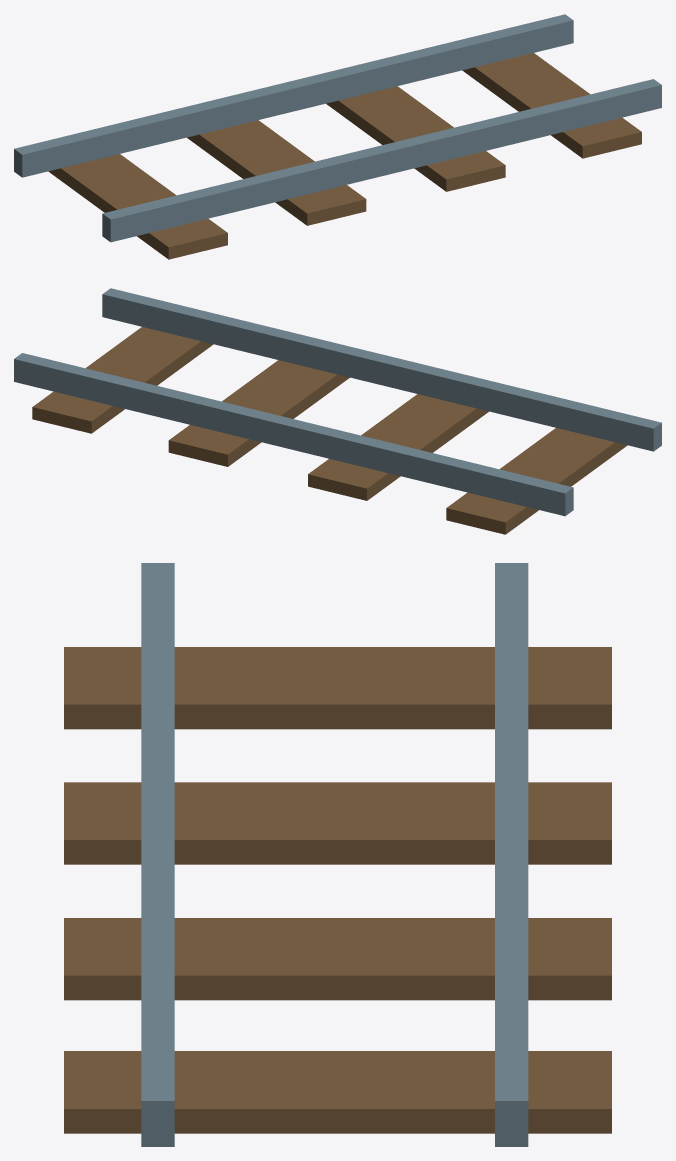
Rendered from Rail-A01.fbx.
The picture shows the model from 3 angles, top to bottom: view 1: azimuth 30°, elevation 25°; view 2: azimuth 150°, elevation 25°; view 3: azimuth 270°, elevation 25°; orthographic projection. The views are drawn at different scales.
Visible parts, largest first — view 1: Rail-A01; view 2: Rail-A01; view 3: Rail-A01.
Boxes of the visible parts, x1,y1,x2,y2 form: Rail-A01: [14, 14, 661, 259]; Rail-A01: [14, 288, 661, 534]; Rail-A01: [64, 563, 611, 1146].
Size of the model in its own units: 457 by 28.05 by 197.
